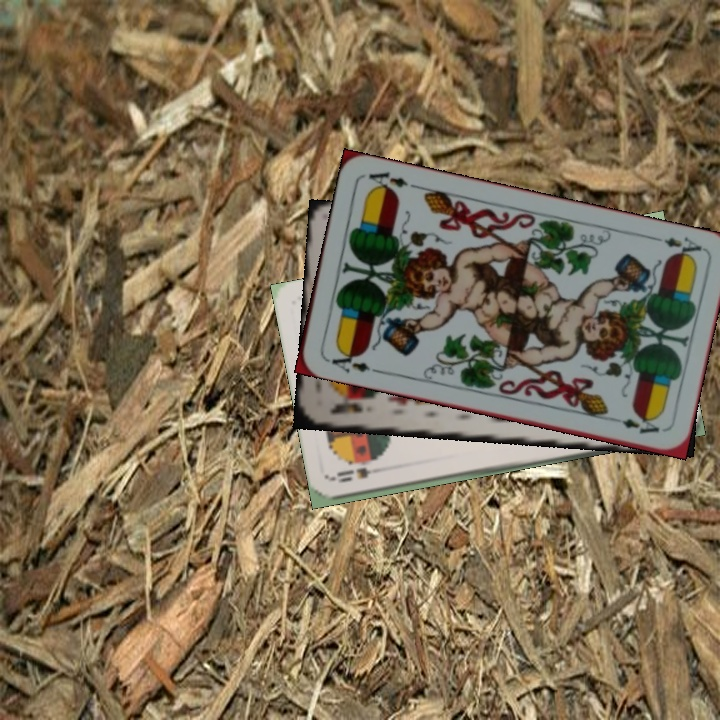EA: (647, 232, 705, 262), (322, 345, 373, 376)
SK: (325, 397, 365, 417)
SO: (331, 462, 390, 485)
